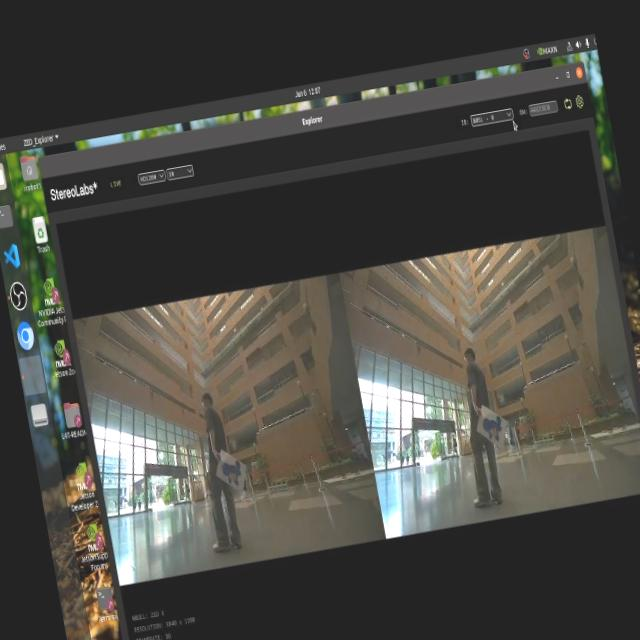blue: (476, 408, 509, 448), (215, 454, 242, 484)
